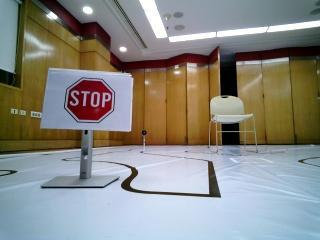stop: (49, 74, 131, 127)
